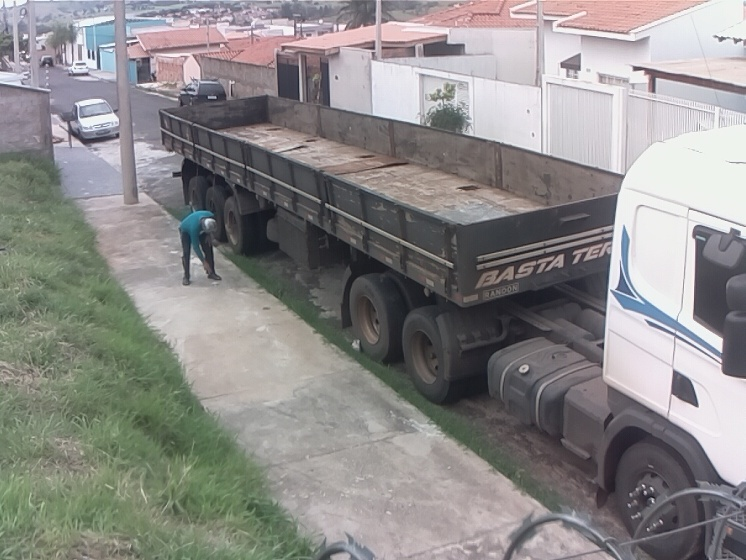person: (173, 204, 225, 286)
